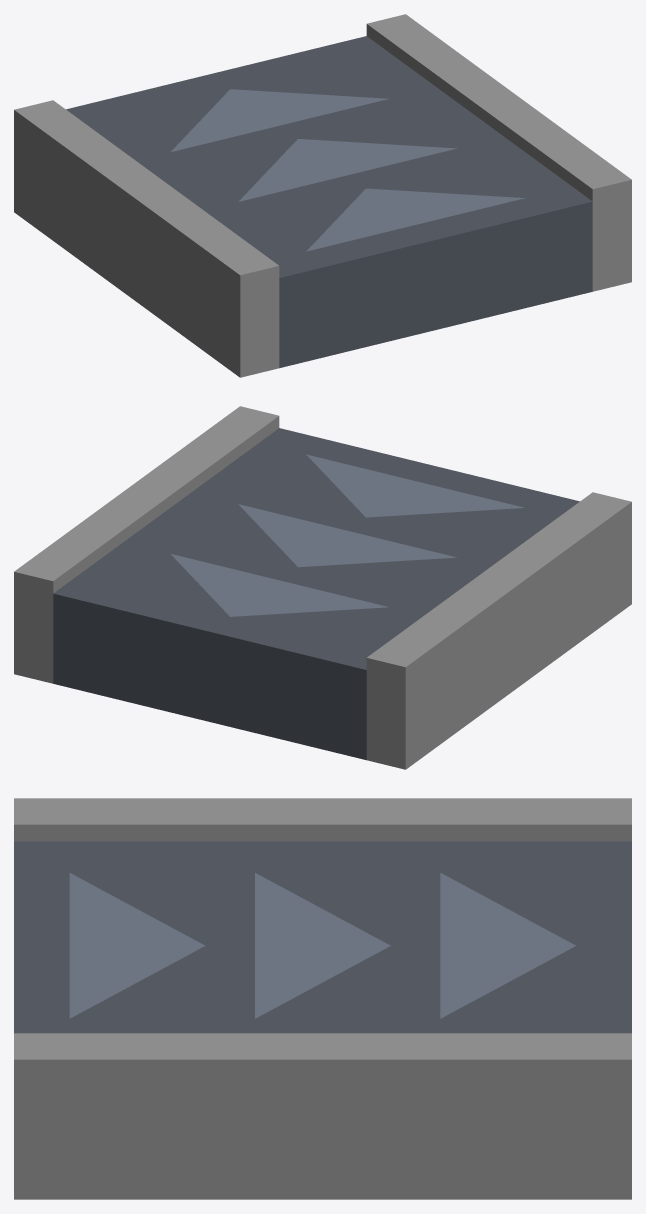
Rendered from vfef_belt.obj.
3 views of the same model, one above another, from view 1: azimuth 30°, elevation 25°; view 2: azimuth 150°, elevation 25°; view 3: azimuth 270°, elevation 25° (orthographic). The views are drawn at different scales.
Parts seen in each view (by area): view 1: vfef_belt_0, vfef_belt_2, vfef_belt_1, vfef_belt_3; view 2: vfef_belt_0, vfef_belt_2, vfef_belt_1, vfef_belt_3; view 3: vfef_belt_3, vfef_belt_0, vfef_belt_1, vfef_belt_2.
Boxes of the visible parts, x1,y1,x2,y2 form: vfef_belt_0: [66, 36, 592, 368]; vfef_belt_2: [14, 100, 279, 377]; vfef_belt_1: [170, 89, 524, 251]; vfef_belt_3: [366, 14, 631, 291]; vfef_belt_0: [53, 428, 579, 760]; vfef_belt_2: [366, 492, 631, 769]; vfef_belt_1: [171, 454, 524, 616]; vfef_belt_3: [14, 406, 279, 683]; vfef_belt_3: [14, 1033, 631, 1199]; vfef_belt_0: [14, 841, 631, 1033]; vfef_belt_1: [69, 873, 575, 1018]; vfef_belt_2: [14, 798, 631, 841].
Size of the model in its own units: 1 by 0.25 by 1.
